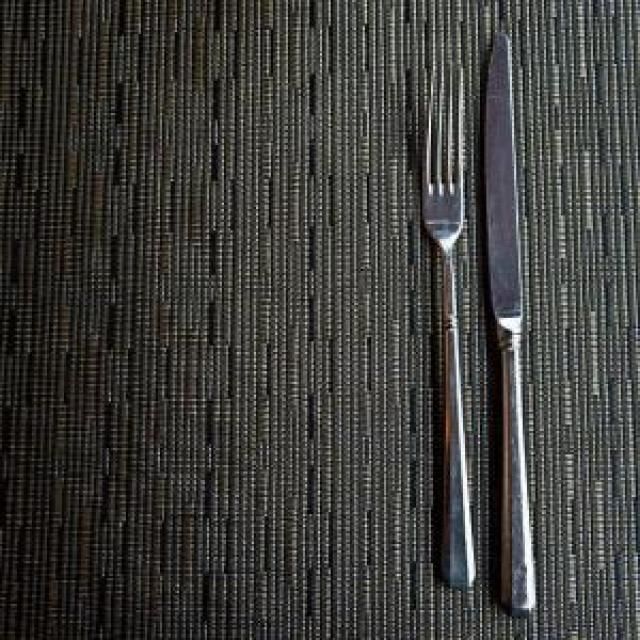knife: (476, 28, 542, 615)
